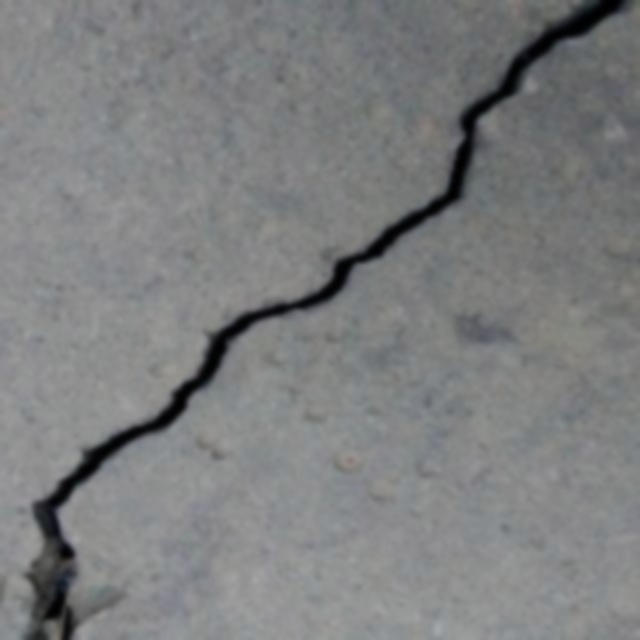SurfaceCrack: (0, 2, 636, 640)
